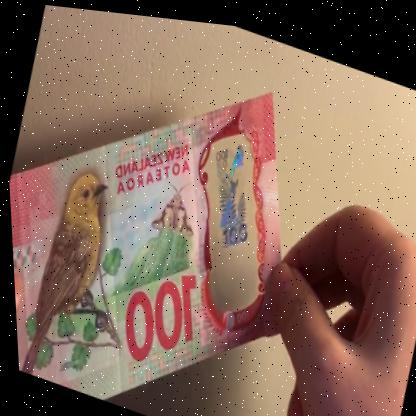100B: (187, 124, 274, 263)
